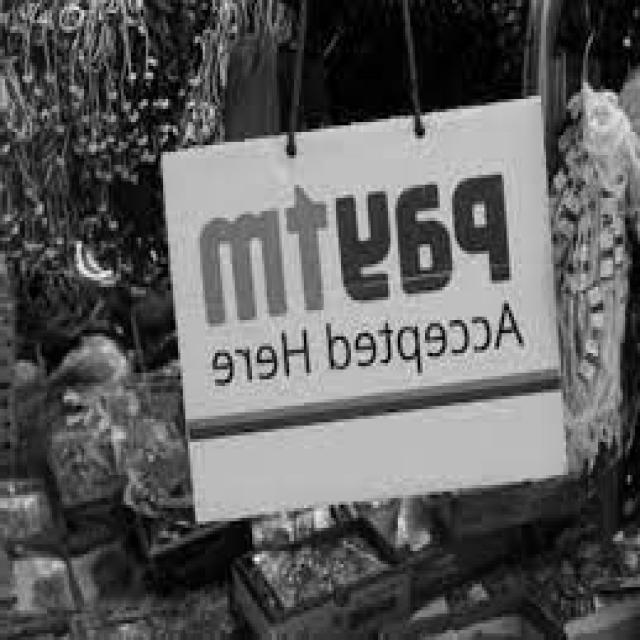fully_visible: (179, 154, 512, 320)
